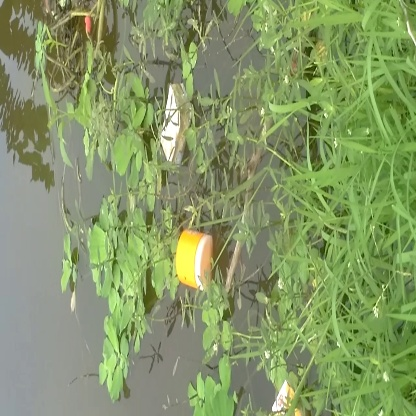bottle: (170, 226, 223, 292)
